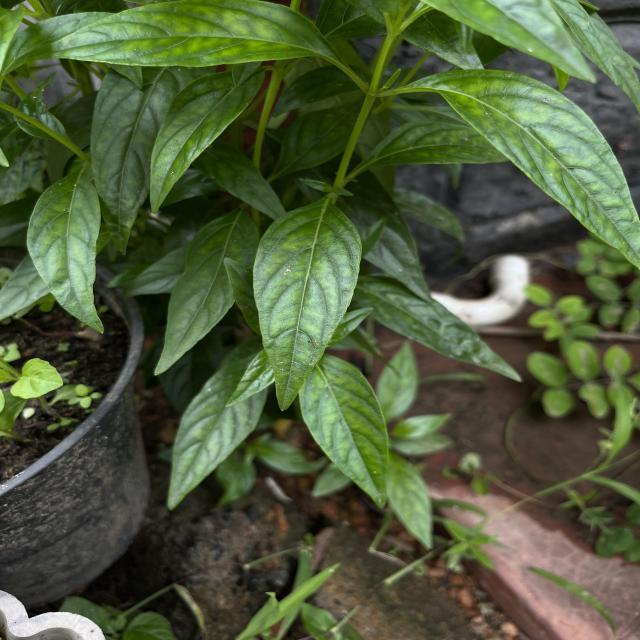Andrographis paniculata: (404, 66, 640, 273), (249, 194, 365, 413), (89, 62, 205, 258), (16, 0, 344, 67), (354, 276, 528, 384), (152, 202, 258, 376), (146, 64, 266, 216), (164, 353, 264, 512), (24, 162, 108, 336), (301, 359, 392, 510)
